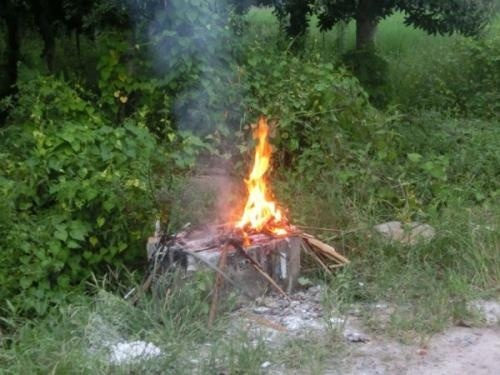fire: (234, 114, 285, 237)
